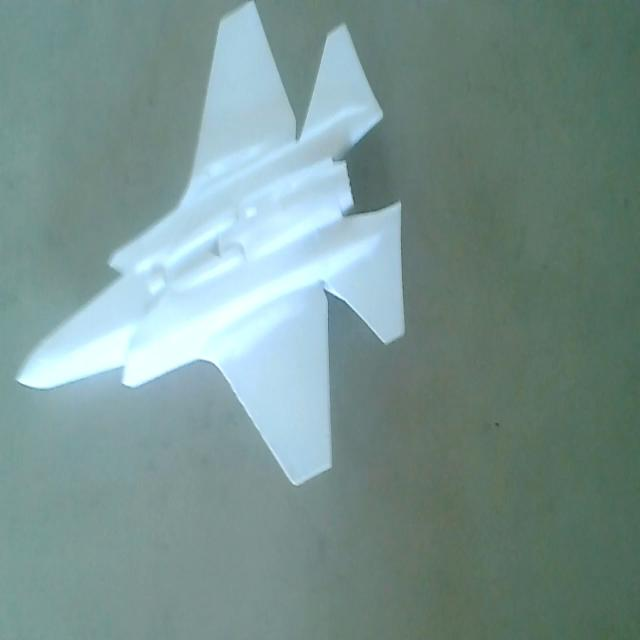Jet: (16, 0, 406, 498)
